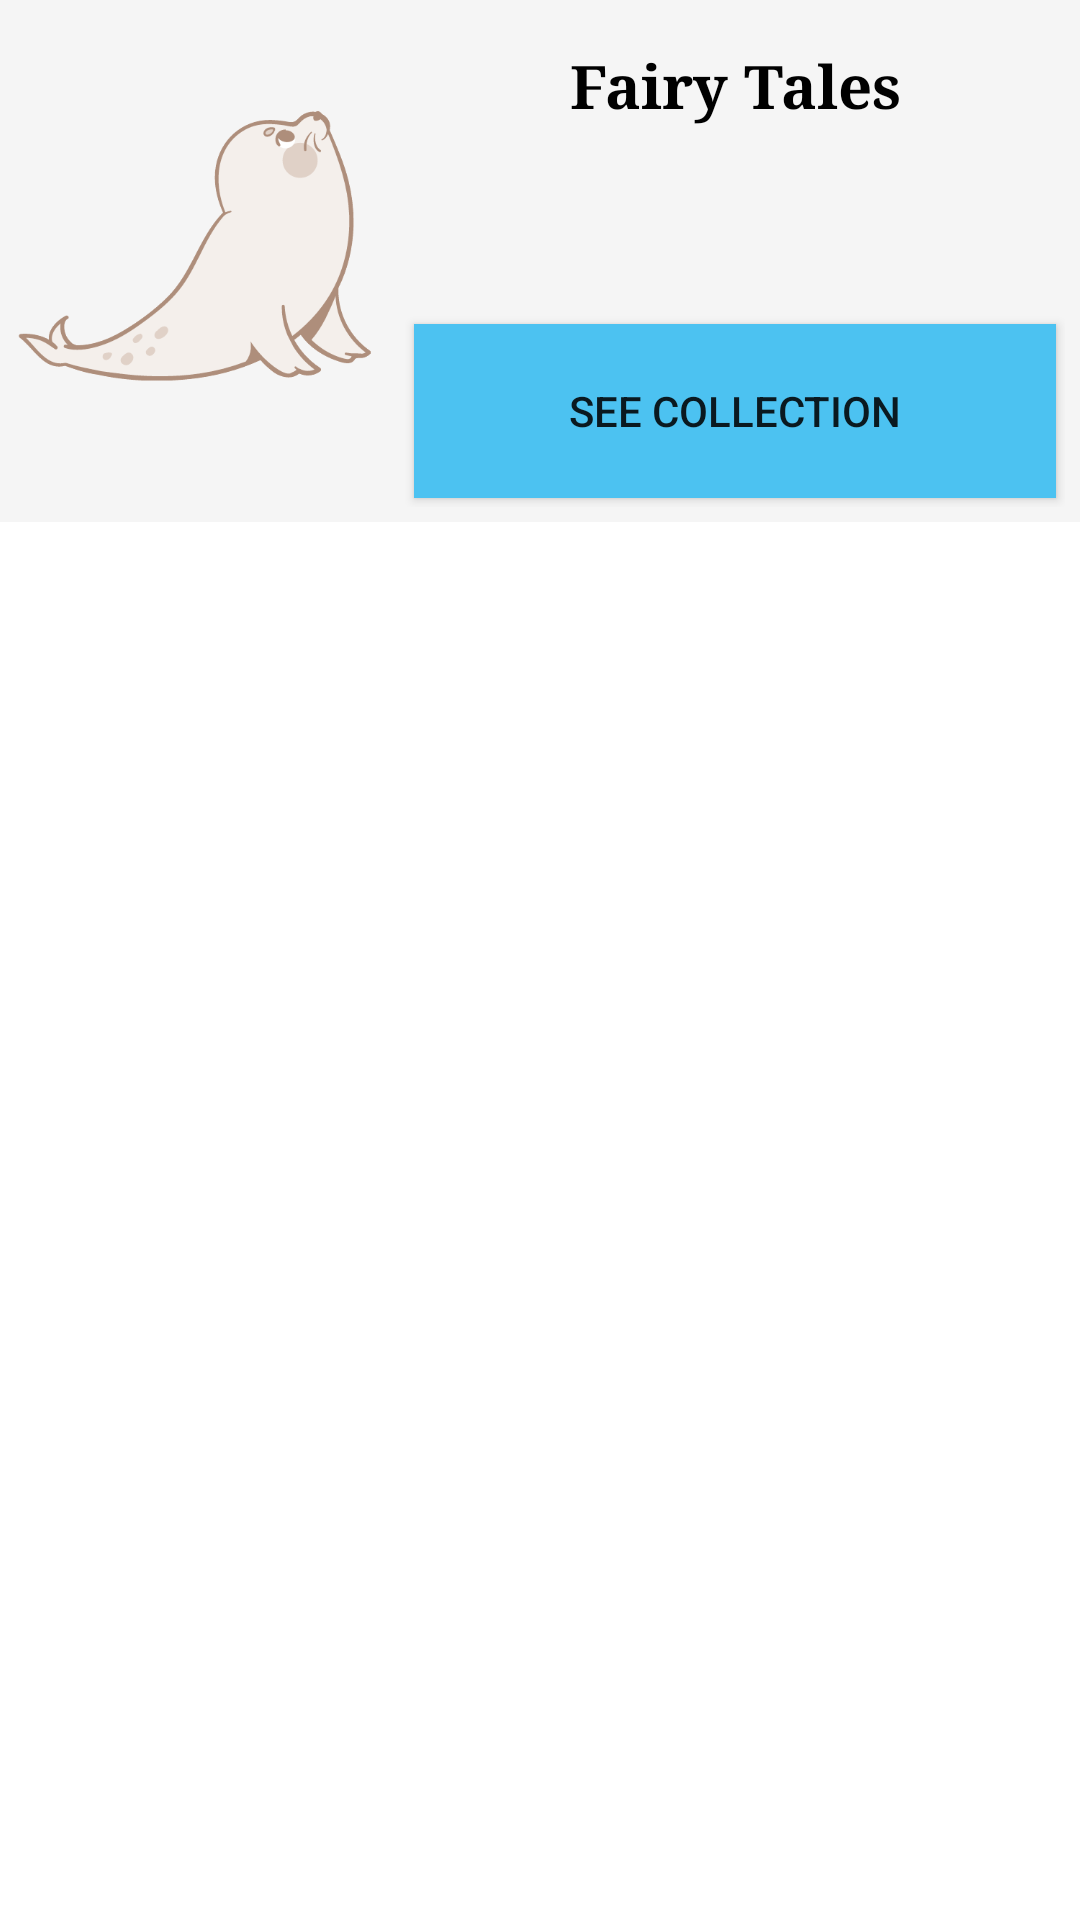

Named icons in this screenshot (1080×1920) and their centers, (x,y):
foca: (195,246)
